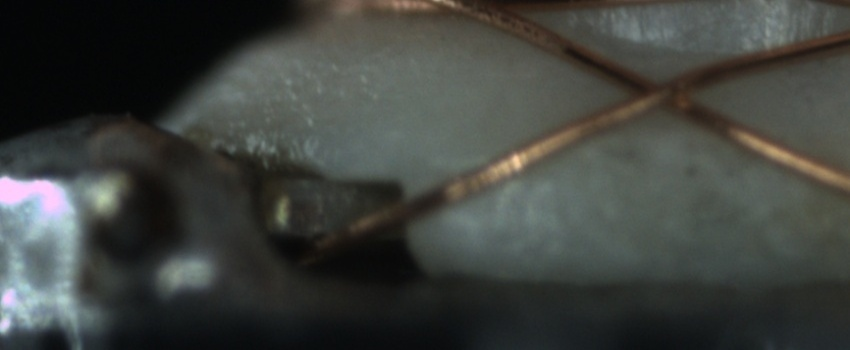CL: (600, 61, 720, 121)
